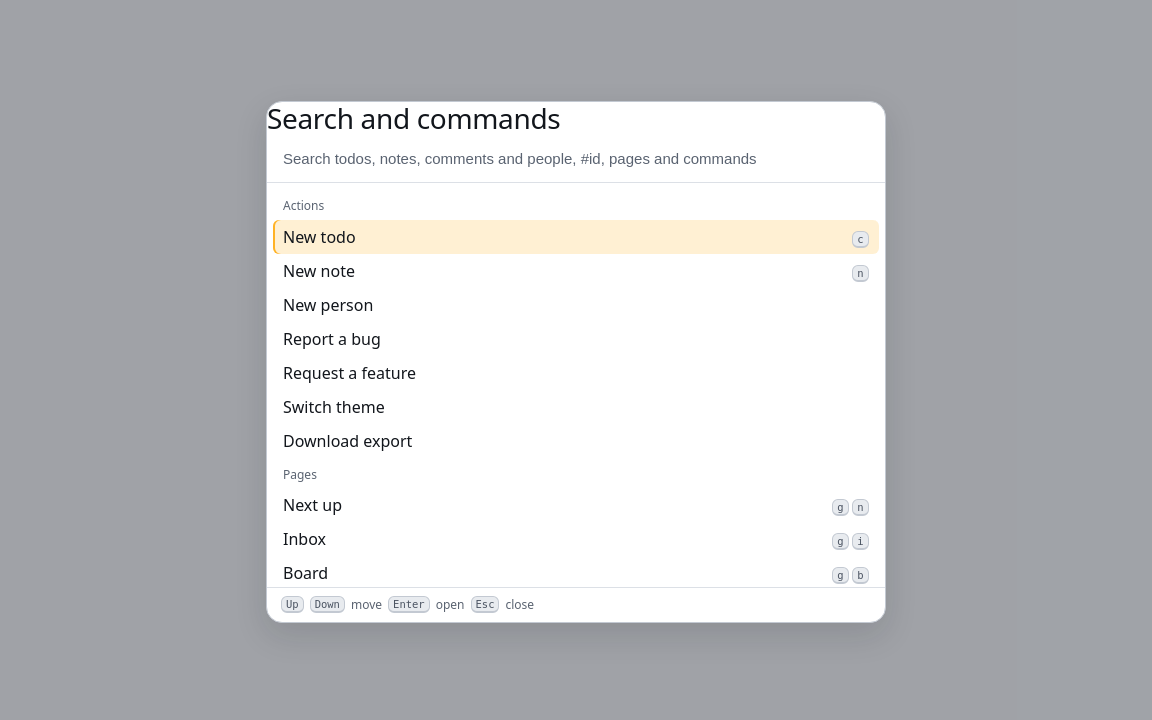
Test: Palette search › groups server results by kind with the matches marked
Type "firewall" into the dropdown at (576, 159), box [267, 135, 885, 183]
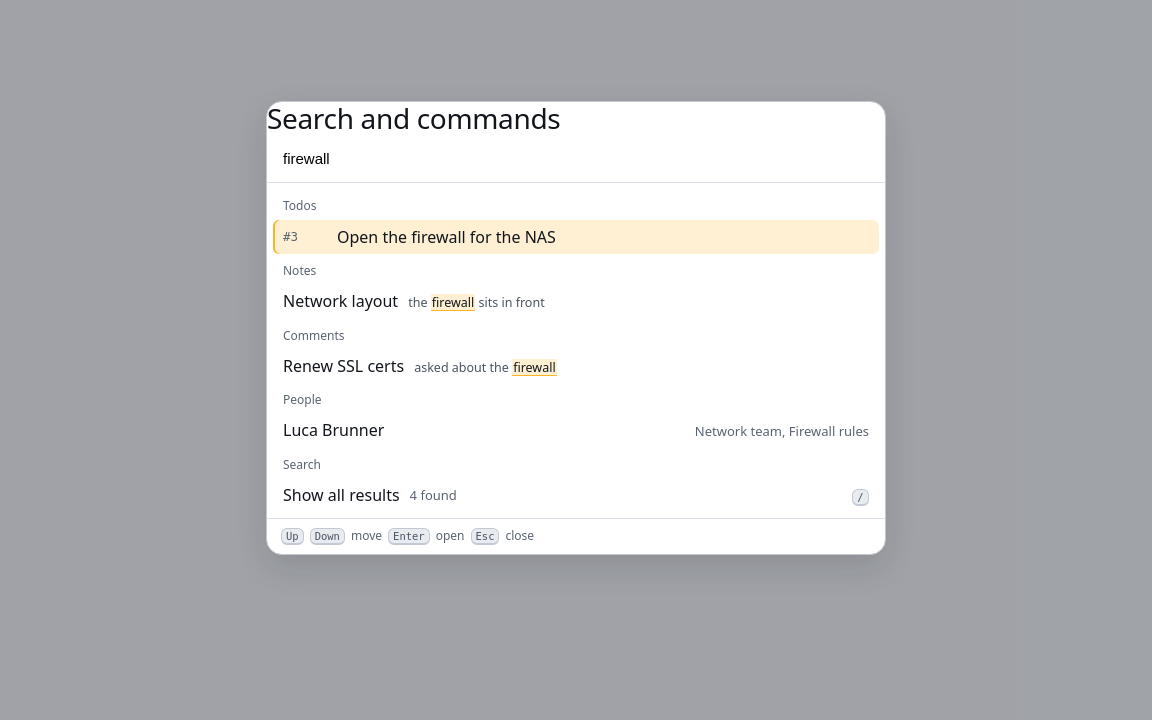
expect the text "People" is shown: met, box [283, 391, 322, 408]
expect the text "Todos" is shown: met, box [283, 197, 316, 214]
expect the text "Notes" is shown: met, box [283, 262, 316, 279]
